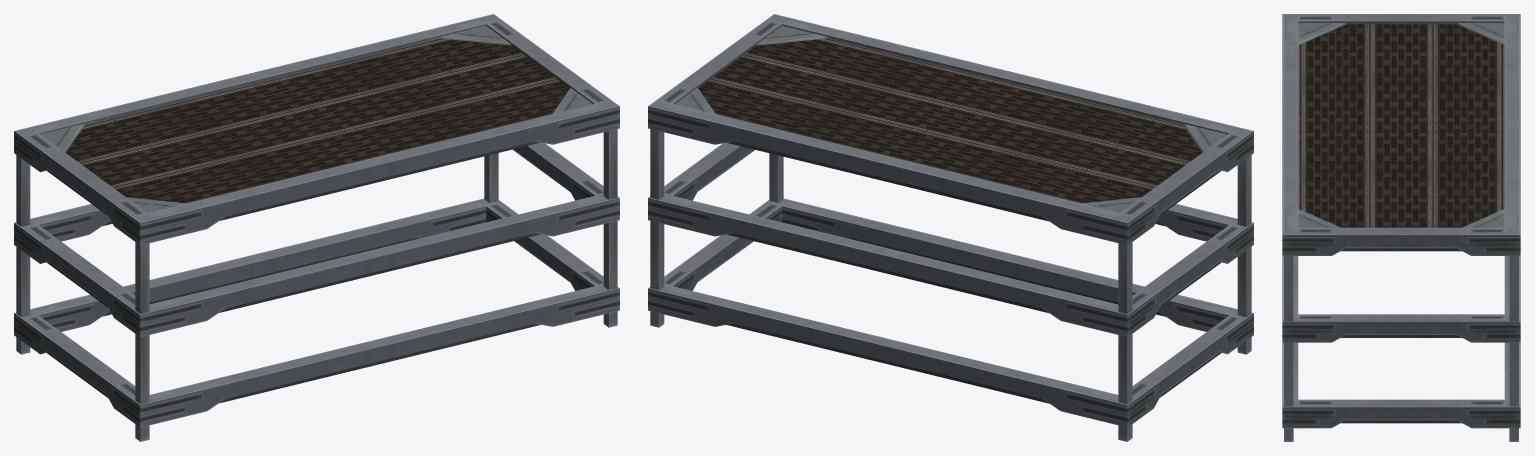
Rendered from all_item_imp_small_scaffold.glb.
The picture shows the model from 3 angles, left to right: view 1: azimuth 30°, elevation 25°; view 2: azimuth 150°, elevation 25°; view 3: azimuth 270°, elevation 25°; orthographic projection. The views are drawn at different scales.
Parts seen in each view (by area): view 1: all_item_imp_small_scaffold; view 2: all_item_imp_small_scaffold; view 3: all_item_imp_small_scaffold.
Part boxes in pixels (bbox=[...]): all_item_imp_small_scaffold: bbox=[14, 14, 619, 441]; all_item_imp_small_scaffold: bbox=[648, 14, 1253, 441]; all_item_imp_small_scaffold: bbox=[1282, 14, 1520, 441].
Bounding box in the file's own units: 0.6605 × 0.2889 × 0.3007.
Materials: 2 (2 with a texture image).
